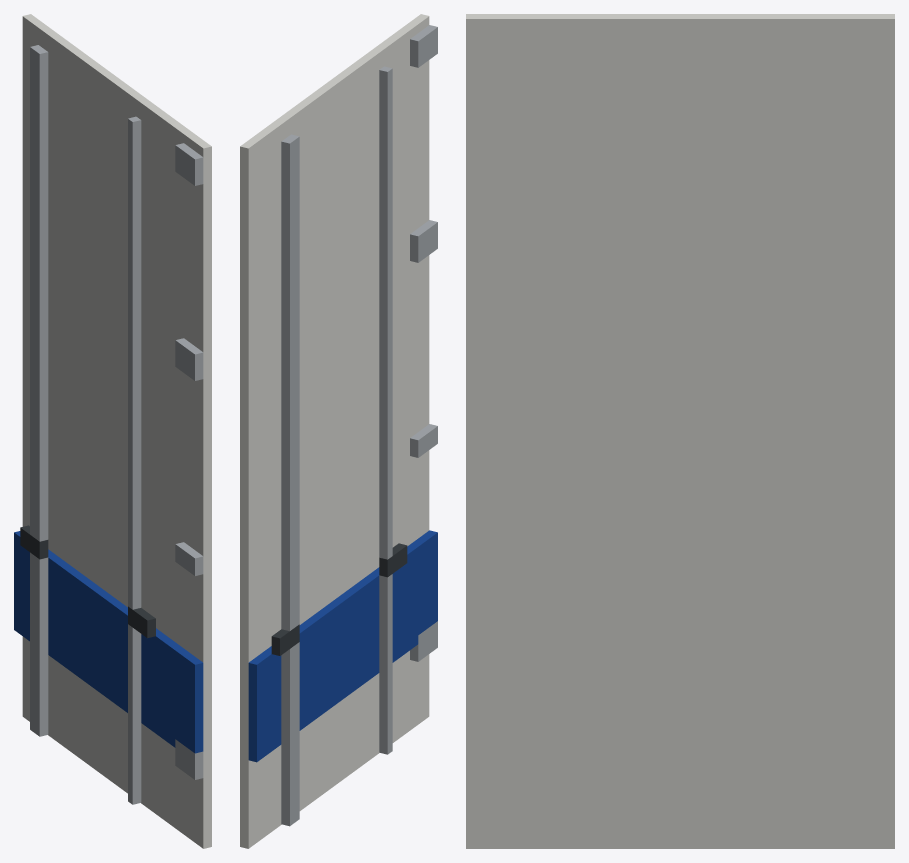
The model's file is semi_trailer_rear_door.glb.
3 views of the same model, side by side, from view 1: azimuth 30°, elevation 25°; view 2: azimuth 150°, elevation 25°; view 3: azimuth 270°, elevation 25° (orthographic). The views are drawn at different scales.
Parts seen in each view (by area): view 1: body:compound; view 2: body:compound; view 3: body:compound.
Part boxes in pixels (x1,y1,x2,y2): body:compound: (14,14,211,848); body:compound: (240,14,437,848); body:compound: (466,14,894,848).
Size of the model in its own units: 0.0938 by 2.47 by 1.16.
